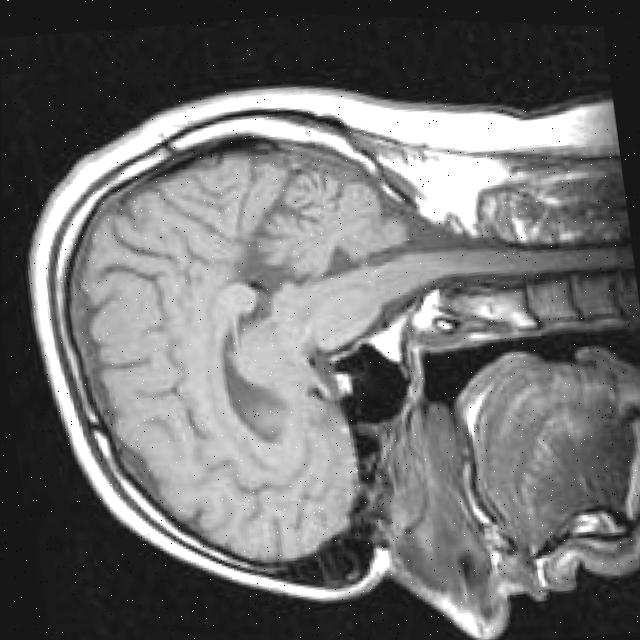NoTumor: (0, 57, 458, 639)
